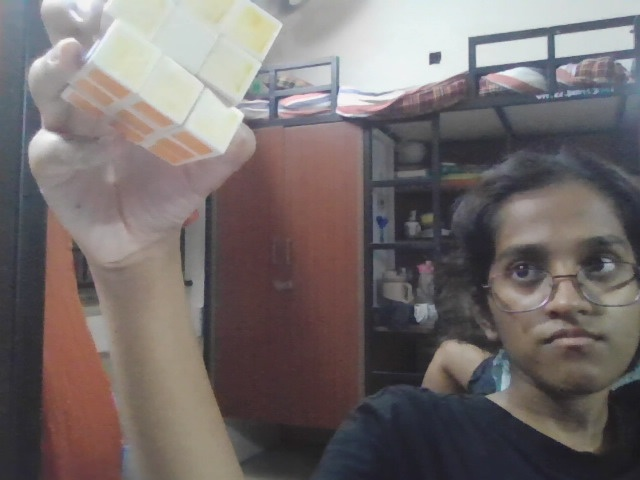rubiks_cube: (41, 0, 281, 152)
